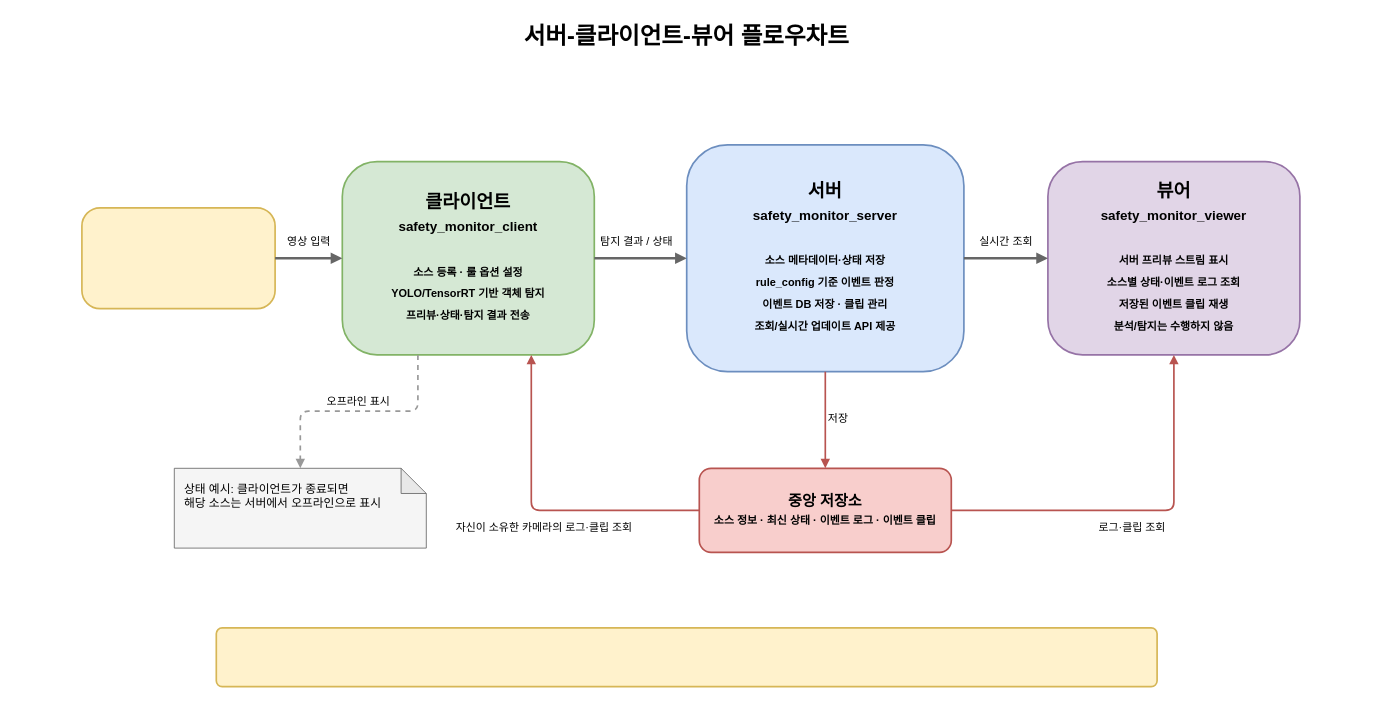
This 1373x701 diagram has some shape labels left out. The shapes that lost their labels are listed below. From the top down, each one's centre as x and y in pixels, then its label:
At (x=178, y=258): "영상 소스 로컬 파일 / 카메라 / 스트림".
At (x=686, y=657): "흐름 요약: 영상 입력 → 클라이언트 객체 탐지 → 서버 저장/이벤트 판정 → 뷰어 조회".
